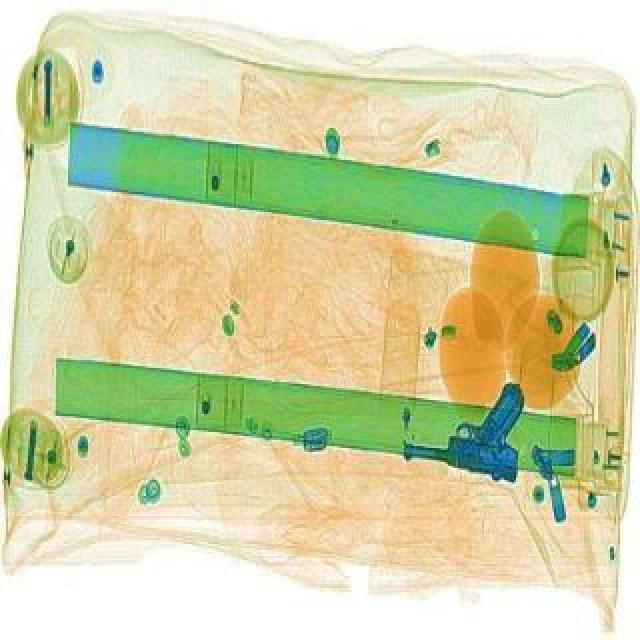gun: (400, 370, 526, 478)
